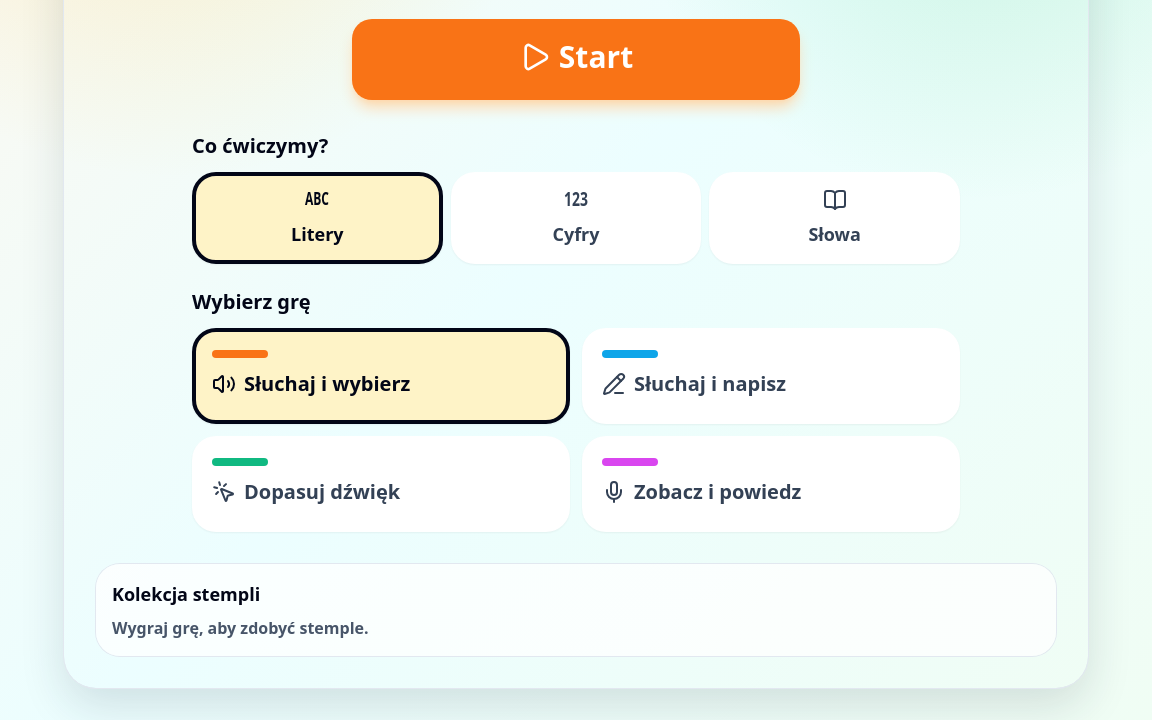
Test: App › shows letter image hints by default in see-letter games
(page scrolled)
Click the button with aria-label "zobacz literę, wybierz dźwięk": click(381, 484) x1=192 y1=436 x2=570 y2=532
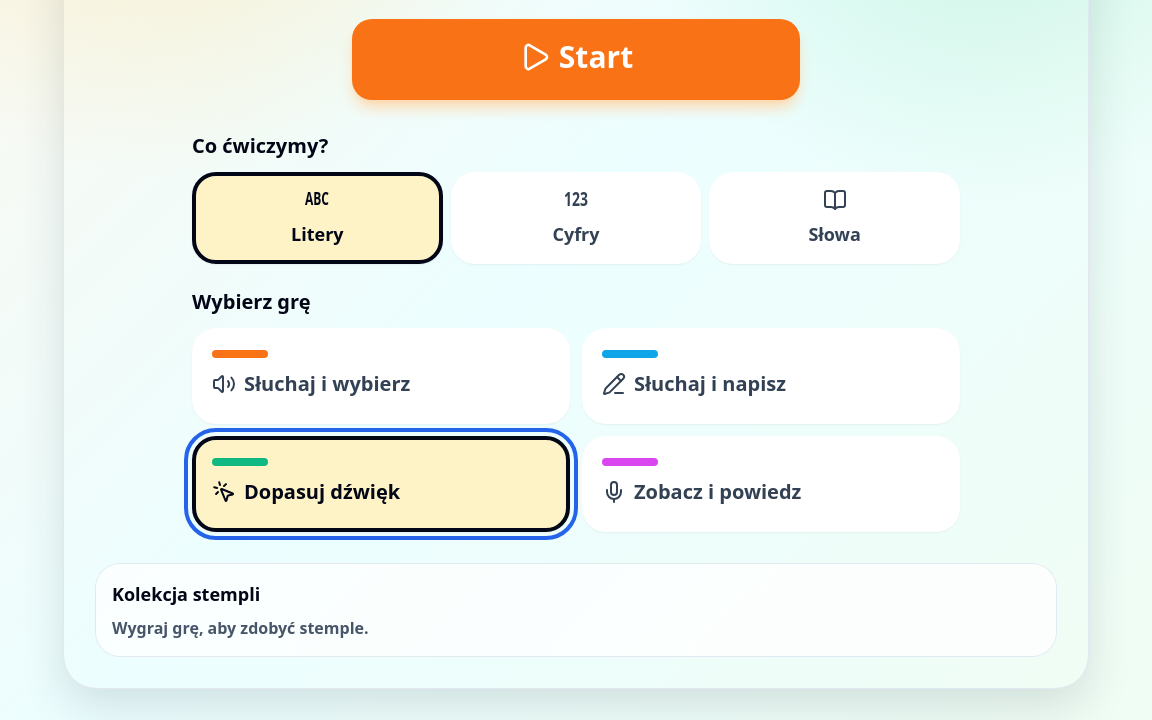
Click the button "Start": click(576, 60) x1=352 y1=19 x2=800 y2=100
(page scrolled)
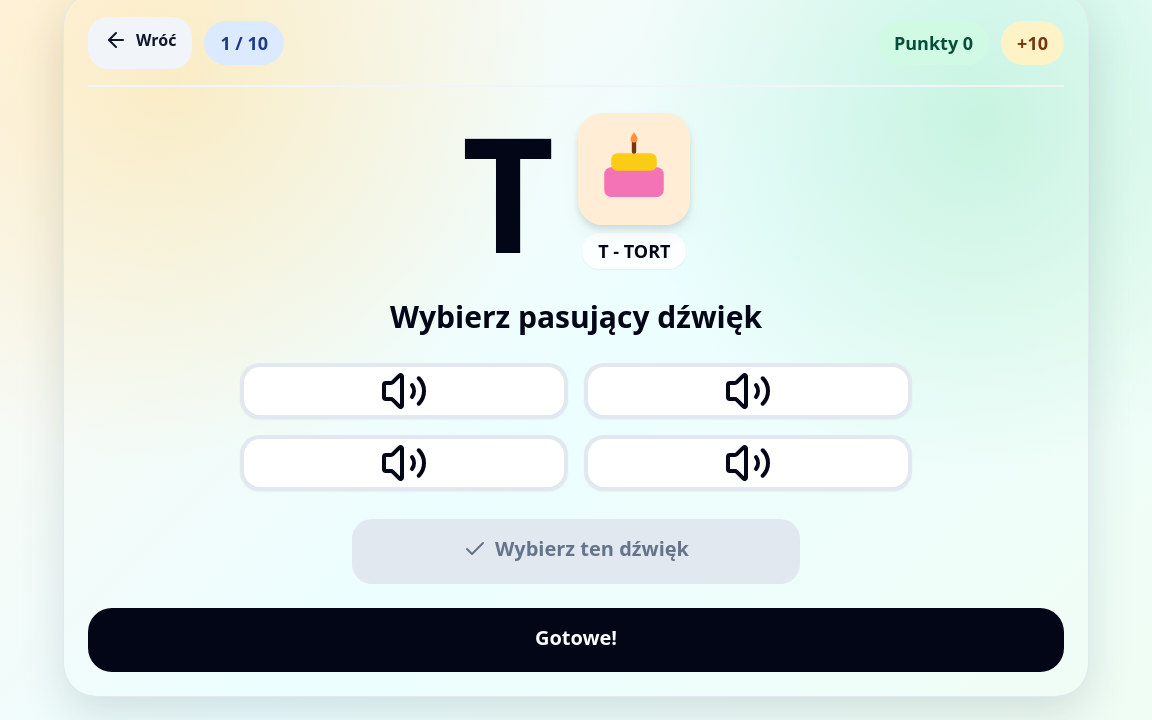
expect the picture named "urodzinowy tort" is shown: met, box x1=578 y1=113 x2=690 y2=225
